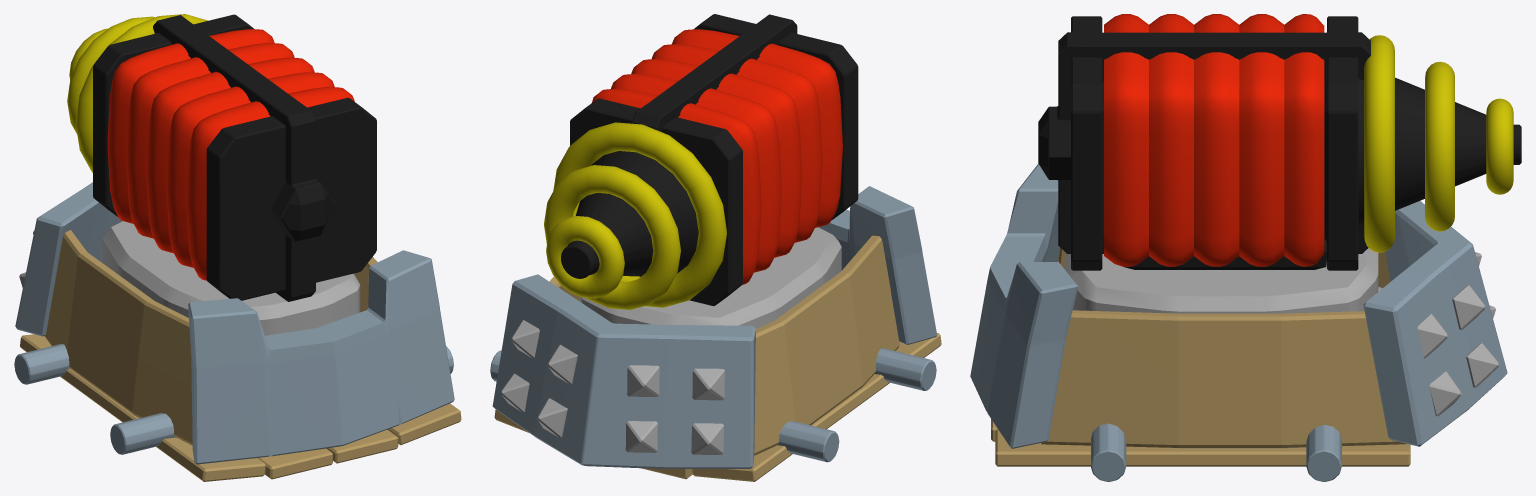
Rendered from Sparky.fbx.
3 renders of one model, left to right at view 1: azimuth 30°, elevation 25°; view 2: azimuth 150°, elevation 25°; view 3: azimuth 270°, elevation 25°, orthographic. The views are drawn at different scales.
Visible parts, largest first — view 1: Sparky:pTorus4; view 2: Sparky:pTorus4; view 3: Sparky:pTorus4.
Part boxes in pixels (x1,y1,x2,y2): Sparky:pTorus4: [14, 14, 461, 481]; Sparky:pTorus4: [490, 14, 941, 481]; Sparky:pTorus4: [970, 14, 1521, 481].
Bounding box in the file's own units: 259 × 245 × 333.
